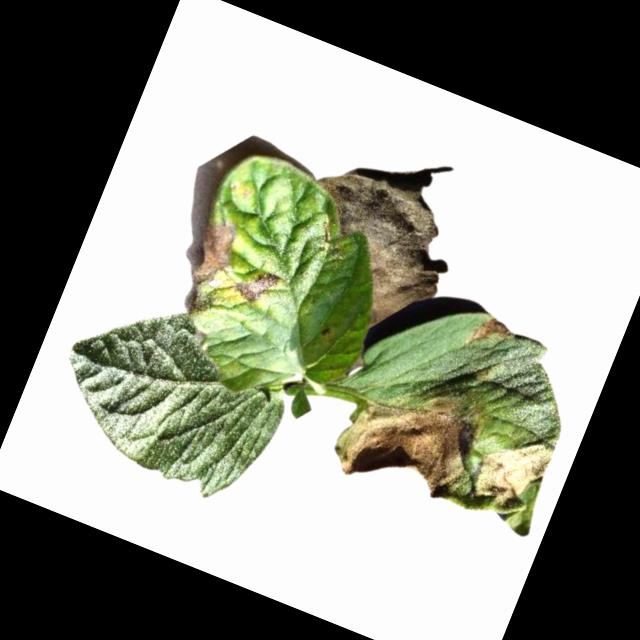Late_blight: (274, 157, 468, 347), (326, 350, 498, 517), (467, 423, 558, 521), (185, 212, 251, 296), (231, 261, 282, 310), (467, 309, 516, 355), (189, 288, 217, 318), (317, 322, 334, 339)
healthy: (37, 277, 306, 513)
